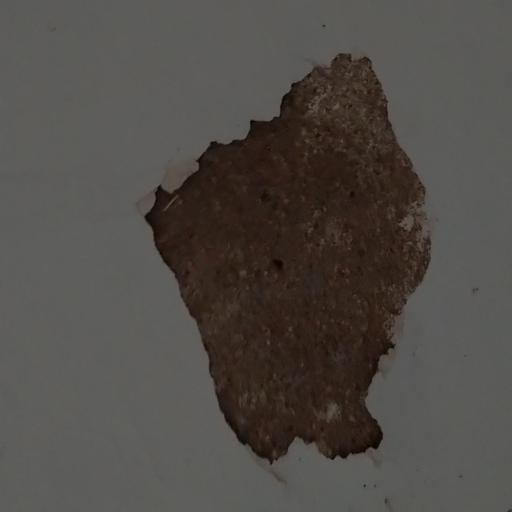peeling: (125, 42, 458, 469)
